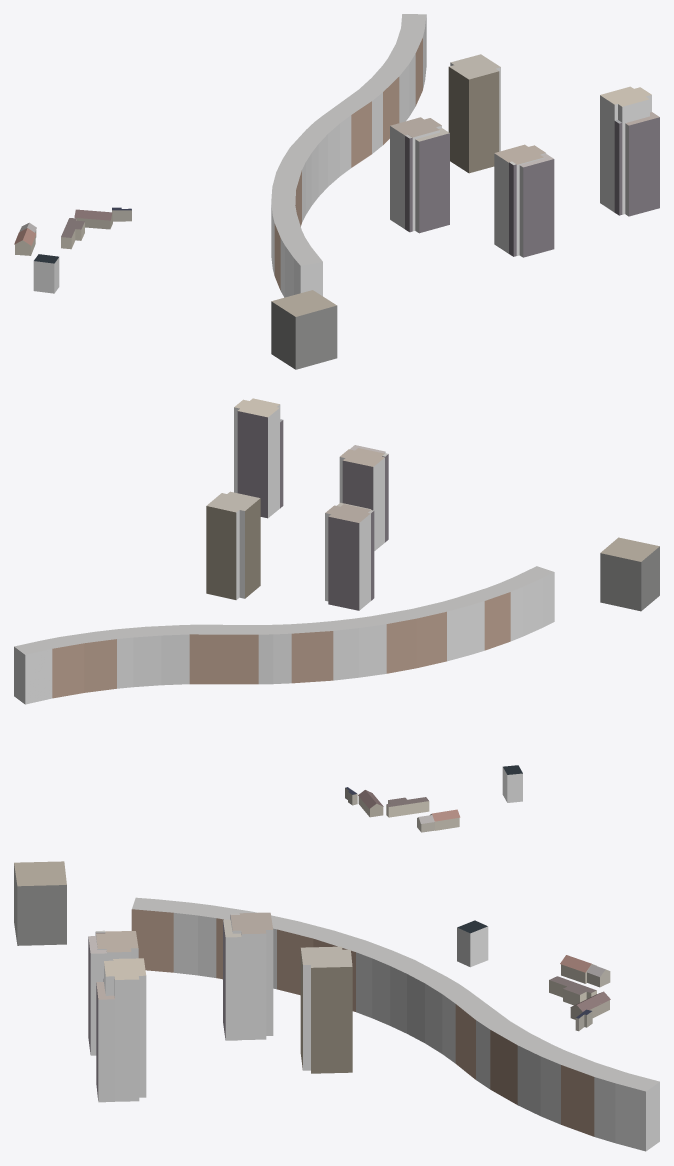
The picture shows the model from 3 angles, top to bottom: view 1: azimuth 30°, elevation 25°; view 2: azimuth 150°, elevation 25°; view 3: azimuth 270°, elevation 25°; orthographic projection. The views are drawn at different scales.
Visible parts, largest first — view 1: tuile; view 2: tuile; view 3: tuile.
Boxes of the visible parts, <box> form: tuile: <box>14,14,659,369</box>; tuile: <box>14,398,659,832</box>; tuile: <box>14,861,659,1151</box>.
Bounding box in the file's own units: 253 × 105 × 268.
